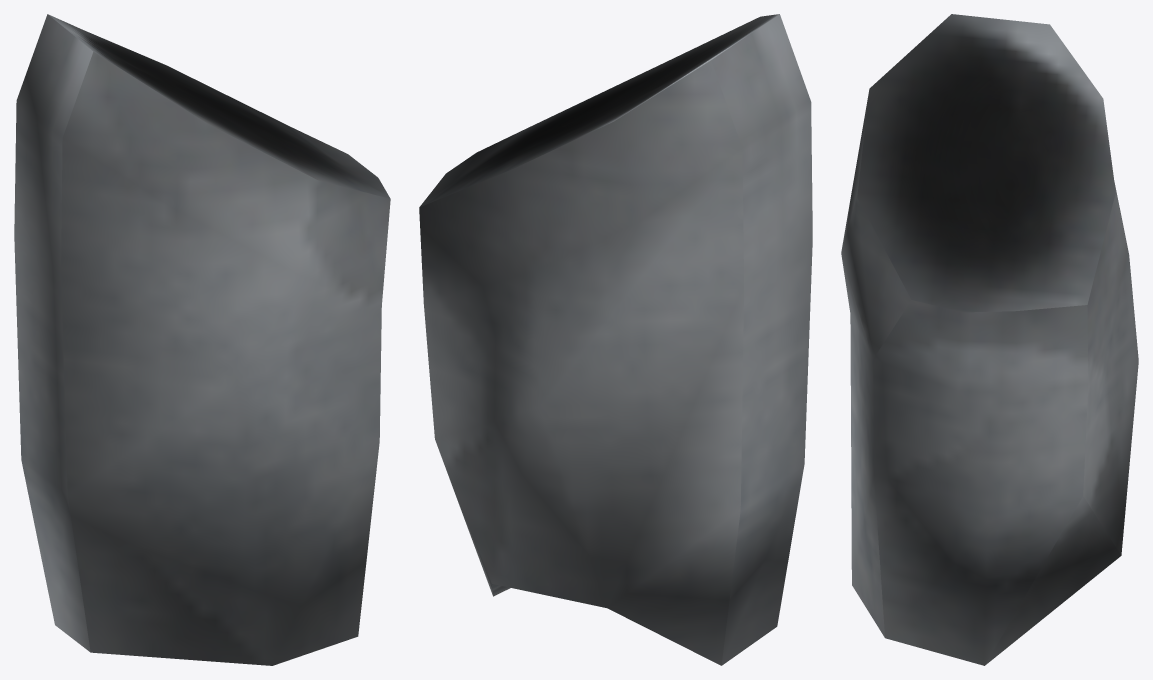
The model's file is grave_marine_thigh_r.glb.
The picture shows the model from 3 angles, left to right: view 1: azimuth 30°, elevation 25°; view 2: azimuth 150°, elevation 25°; view 3: azimuth 270°, elevation 25°; orthographic projection. The views are drawn at different scales.
Parts seen in each view (by area): view 1: scythe_marine_thigh_r; view 2: scythe_marine_thigh_r; view 3: scythe_marine_thigh_r.
Part boxes in pixels (<box>): scythe_marine_thigh_r: <box>14,14,390,665</box>; scythe_marine_thigh_r: <box>419,14,812,665</box>; scythe_marine_thigh_r: <box>841,14,1138,665</box>.
Bounding box in the file's own units: 0.9299 × 1.7 × 0.8465.
Materials: 1 (1 with a texture image).
